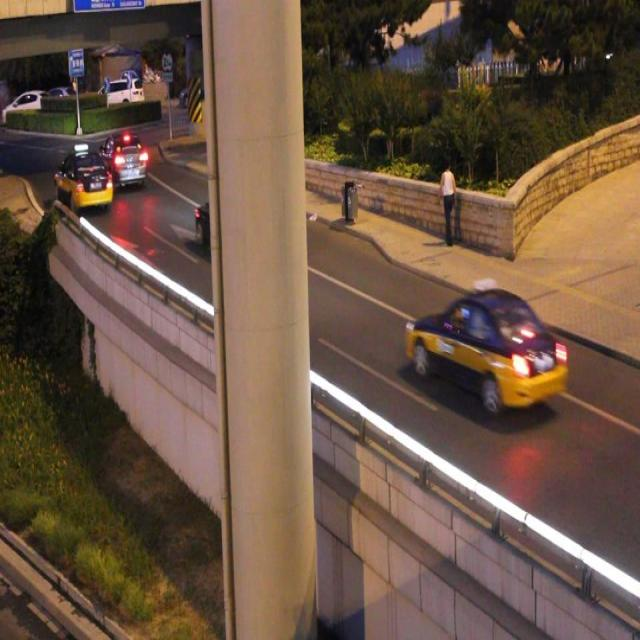car: (408, 287, 566, 411), (195, 194, 256, 256), (56, 153, 112, 208), (101, 135, 146, 184)
